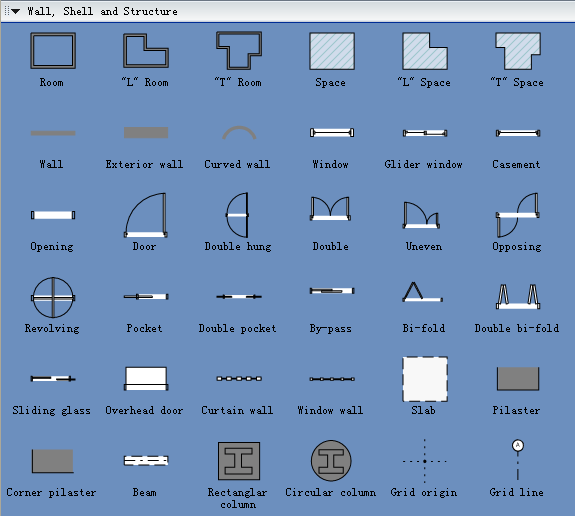door: (119, 190, 175, 235), (306, 193, 361, 217)
